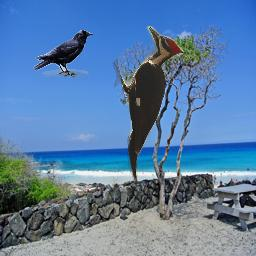Crow: (33, 30, 93, 77)
Woodpecker: (112, 26, 184, 183)
